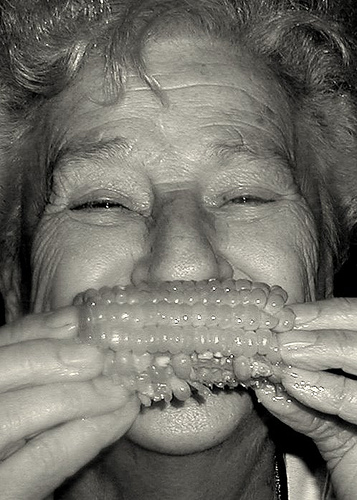corn: (68, 276, 293, 405)
